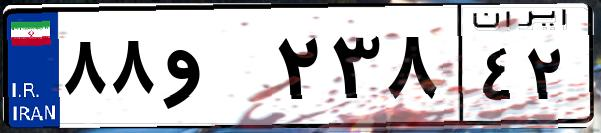2: (270, 28, 330, 110), (525, 38, 570, 115)
3: (330, 28, 385, 110)
4: (475, 38, 525, 113)
8: (385, 28, 445, 110), (57, 26, 110, 100), (110, 28, 158, 98)
و: (158, 20, 270, 120)
